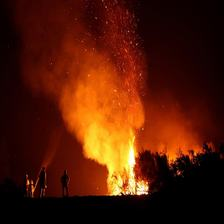fire: (66, 71, 160, 198)
